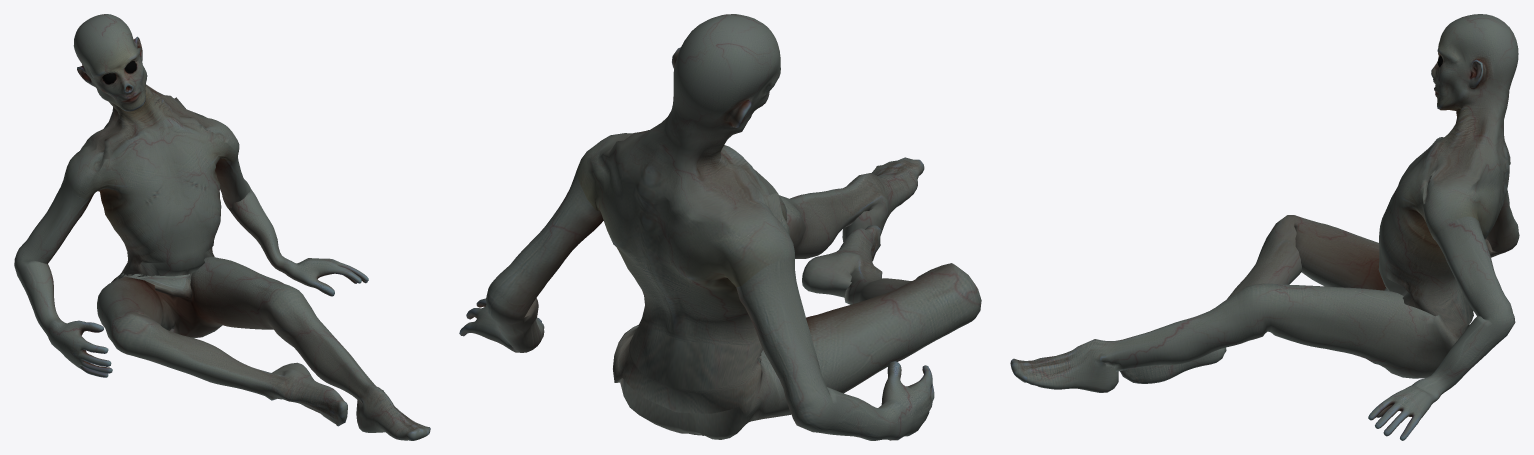
File: watcher01.FBX
The picture shows the model from 3 angles, left to right: view 1: azimuth 30°, elevation 25°; view 2: azimuth 150°, elevation 25°; view 3: azimuth 270°, elevation 25°; orthographic projection. The views are drawn at different scales.
Parts seen in each view (by area): view 1: watcher_low; view 2: watcher_low; view 3: watcher_low.
Boxes of the visible parts, box(x1,y1,x2,y2) form: watcher_low: box(14, 14, 430, 440); watcher_low: box(459, 14, 981, 440); watcher_low: box(1010, 14, 1519, 440).
Bounding box in the file's own units: 93.11 × 90.29 × 126.
